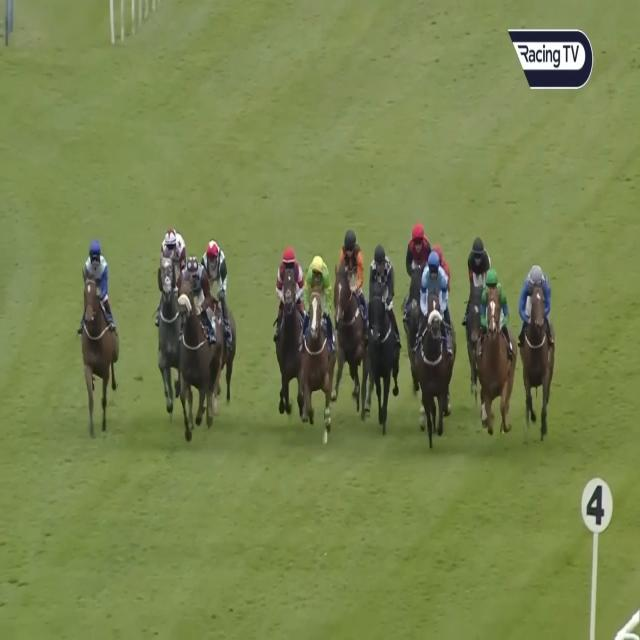horses-racing: (175, 253, 216, 443), (515, 259, 556, 427), (83, 234, 119, 423), (296, 254, 333, 436), (416, 256, 452, 443), (364, 241, 397, 424), (272, 245, 306, 422), (477, 267, 509, 431), (162, 224, 187, 432), (207, 236, 238, 400), (337, 230, 368, 390), (463, 233, 488, 345), (403, 224, 430, 323)
